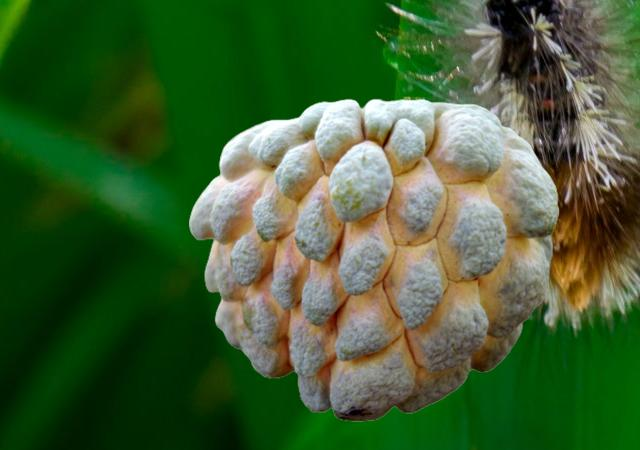atis: (189, 98, 557, 420)
